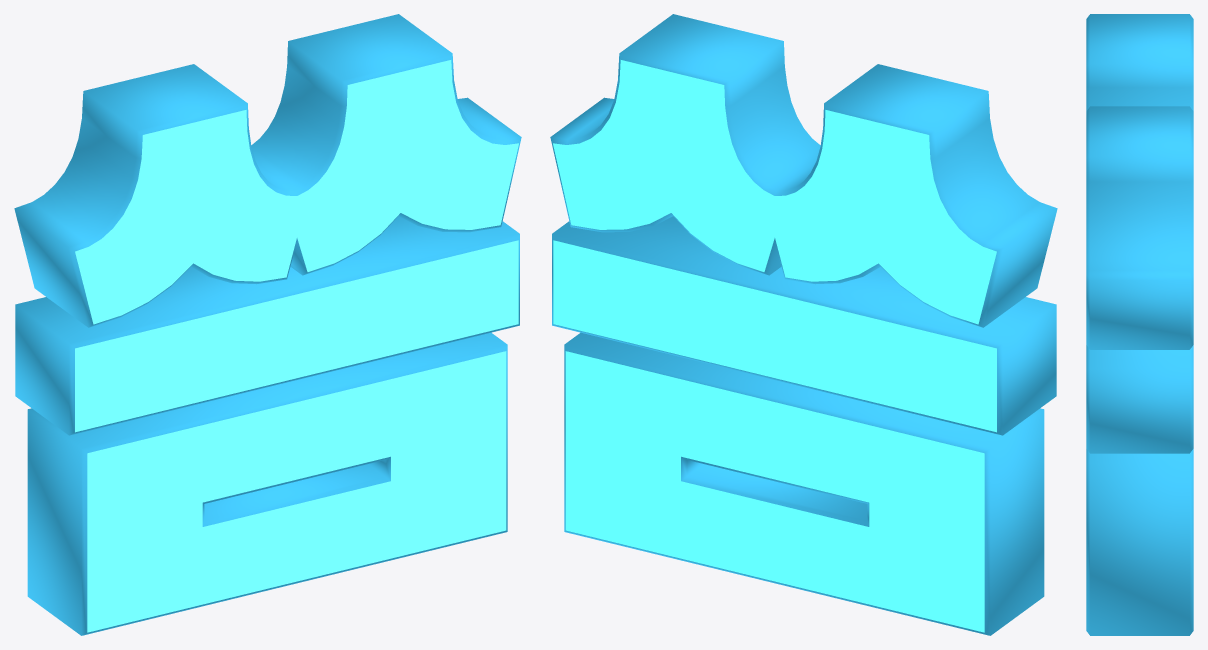
3 views of the same model, side by side, from view 1: azimuth 30°, elevation 25°; view 2: azimuth 150°, elevation 25°; view 3: azimuth 270°, elevation 25° (orthographic). The views are drawn at different scales.
Visible parts, largest first — view 1: glyph; view 2: glyph; view 3: glyph.
Boxes of the visible parts, left/top/right/bottom form: glyph: left=14, top=14, right=521, bottom=635; glyph: left=550, top=14, right=1057, bottom=635; glyph: left=1086, top=14, right=1193, bottom=635.
Size of the model in its own units: 0.1013 by 0.105 by 0.0225.
